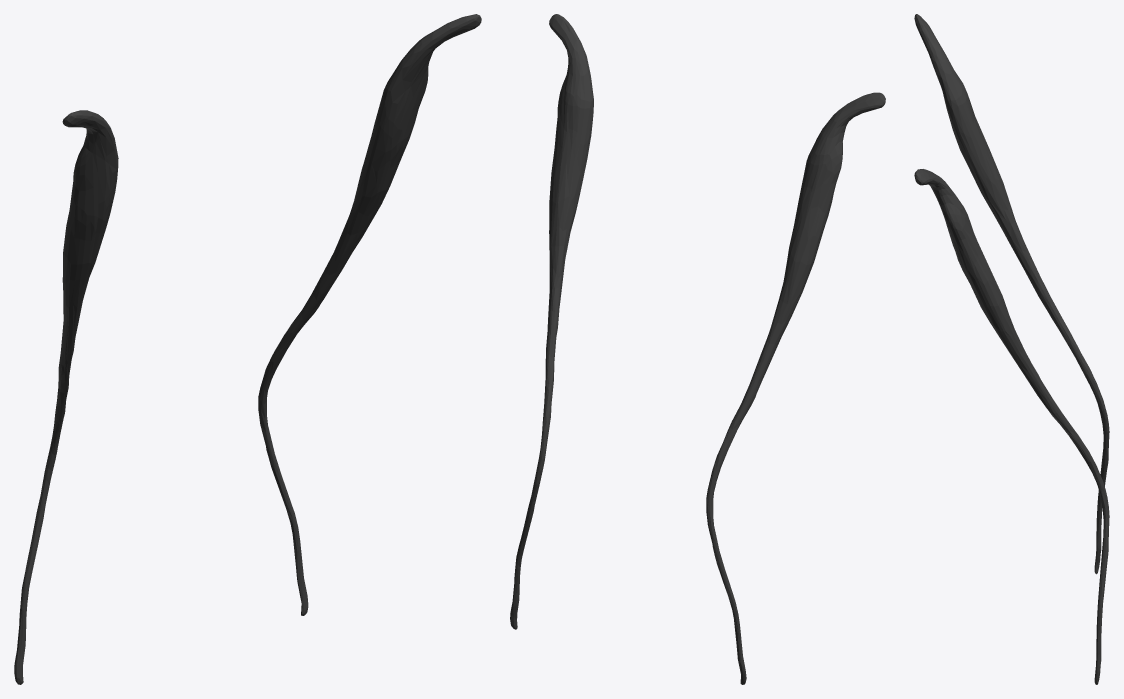
Rendered from m_medial_digital_flexor.glb.
3 views of the same model, side by side, from view 1: azimuth 30°, elevation 25°; view 2: azimuth 150°, elevation 25°; view 3: azimuth 270°, elevation 25° (orthographic). The views are drawn at different scales.
Parts seen in each view (by area): view 1: m_medial_digital_flexor; view 2: m_medial_digital_flexor; view 3: m_medial_digital_flexor.
Part boxes in pixels (box(x1,y1,x2,y2)): m_medial_digital_flexor: box(14, 14, 481, 684); m_medial_digital_flexor: box(510, 14, 885, 684); m_medial_digital_flexor: box(914, 14, 1109, 684).
Size of the model in its own units: 0.00622 by 0.00951 by 0.00314.
1 material, 1 textured.
